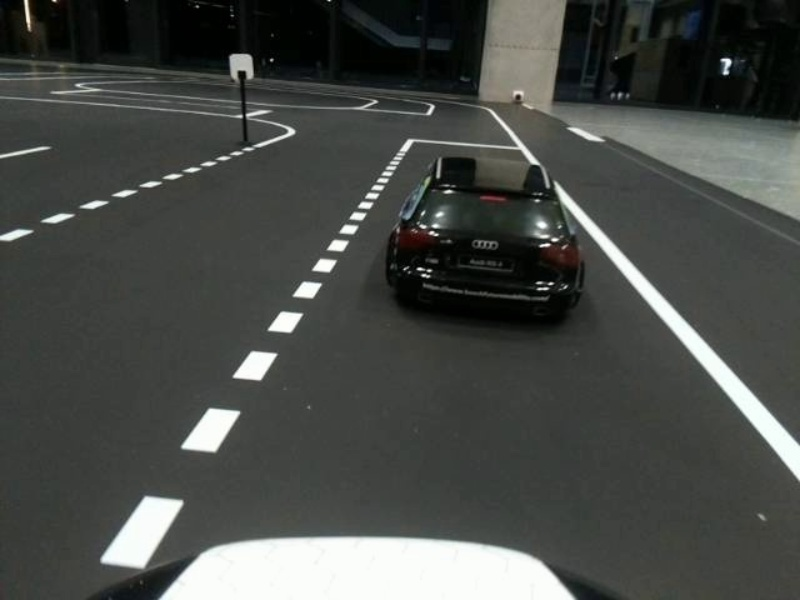car: (388, 131, 591, 339)
